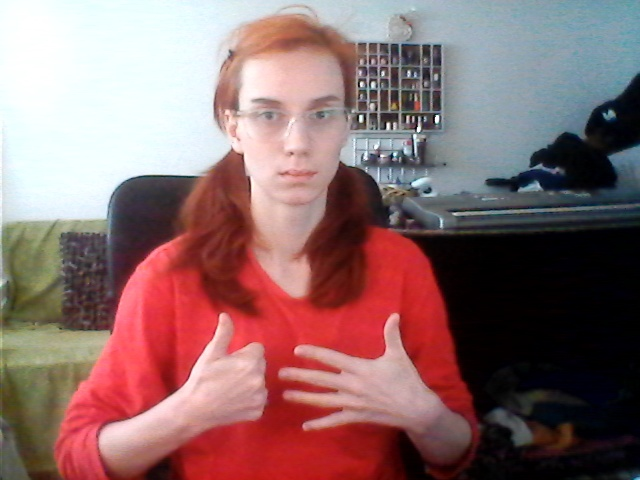sest: (181, 305, 421, 440)
